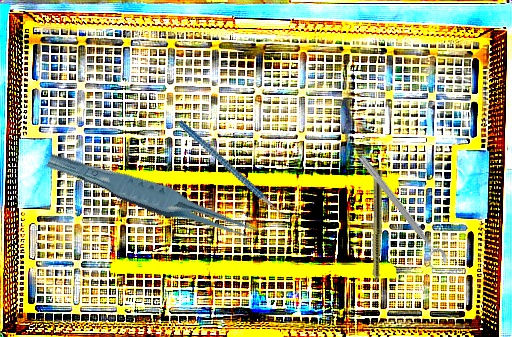Chopper: (178, 93, 299, 248)
Fixation Ring: (349, 151, 451, 274)
Handpiece: (370, 169, 383, 299)
Tissue Forceps: (45, 137, 261, 258)
